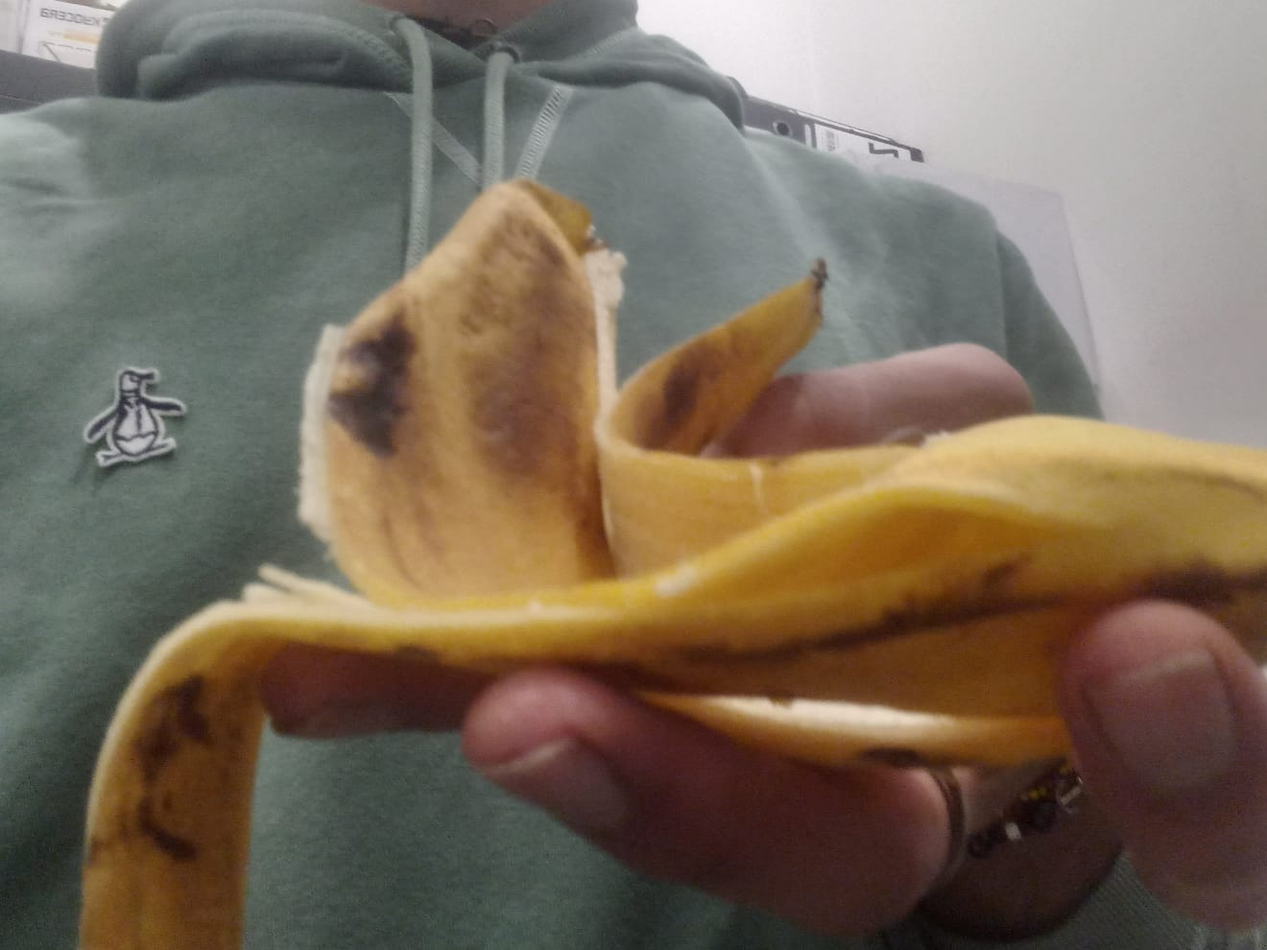Organico: (81, 179, 1267, 950)
